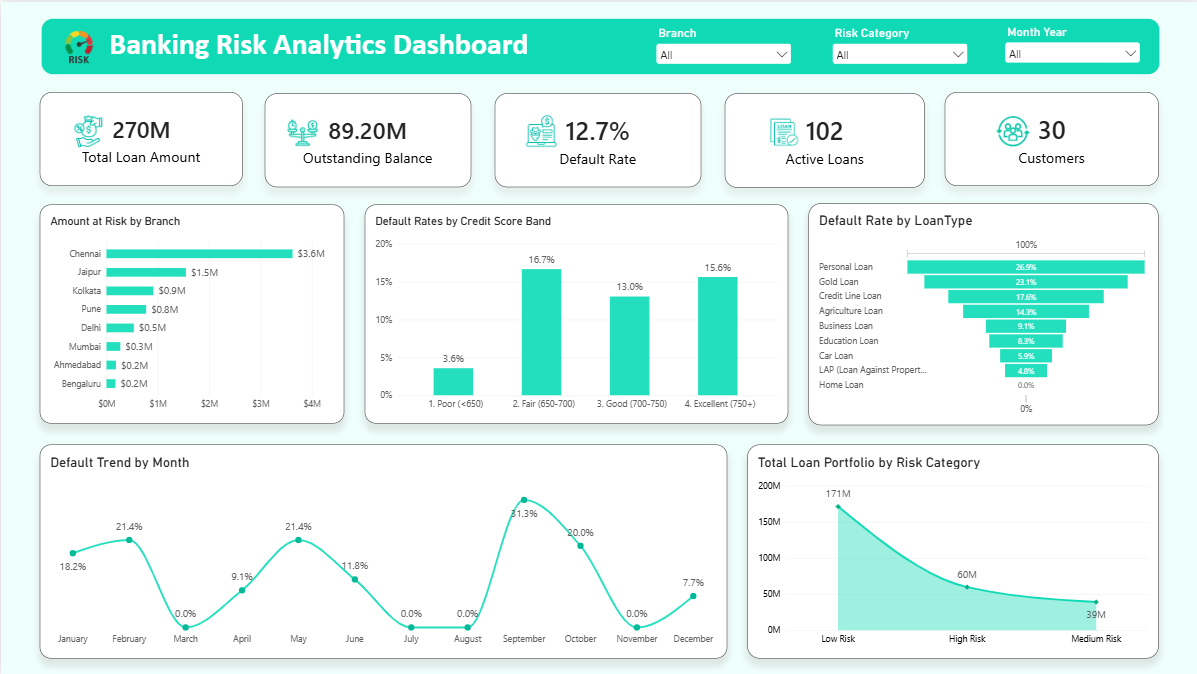

This screenshot's page, from the dashboard's own definition file:
{"tool":"powerbi","page":{"name":"Risk Analysis","canvas":[1920,1080],"ordinal":1},"visuals":[{"type":"areaChart","title":"Total Loan Portfolio by Risk Category","fields":{"Category":["PROD.RiskCategory"],"Y":["Measure.Total Loan Portfolio"]},"box":[1193,708,658,342],"z":0},{"type":"funnel","fields":{"Category":["PROD.LoanType"],"Y":["Measure.Default Rate"]},"box":[1292,322,560,355],"z":2000},{"type":"textbox","title":"Banking ","box":[64,25.5,1790,90],"z":4000},{"type":"slicer","fields":{"Values":["PROD.RiskCategory"]},"box":[1326.5,38,225,67.5],"z":5000},{"type":"slicer","fields":{"Values":["Date.Month Year"]},"box":[1601.5,35.5,225,70],"z":6000},{"type":"slicer","fields":{"Values":["Loan_Fact.Branch"]},"box":[1044,38,225,67.5],"z":7000},{"type":"image","box":[71,27,106,88],"z":8000},{"type":"card","fields":{"Values":["Measure.Total Loan Portfolio"]},"box":[62,144.5,325,150],"z":9000},{"type":"card","fields":{"Values":["Measure.Outstanding Balance"]},"box":[422.6,145.3,330,150],"z":10000},{"type":"card","fields":{"Values":["Measure.Default Rate"]},"box":[789.2,145.3,330,150],"z":11000},{"type":"card","fields":{"Values":["Measure.Active Loans"]},"box":[1157,145.3,320,151.1],"z":12000},{"type":"card","fields":{"Values":["Measure.Customers"]},"box":[1509.5,144.8,342.5,150],"z":13000},{"type":"image","box":[104.8,175.3,71.1,57.8],"z":14000},{"type":"image","box":[454.5,177,57.5,60],"z":15000},{"type":"image","box":[834.5,177,60,57.5],"z":16000},{"type":"image","box":[1589,178,58,58],"z":17000},{"type":"image","box":[1224.5,177,57.5,60],"z":18000},{"type":"clusteredColumnChart","title":"Default Rates by Credit Score Band","fields":{"Category":["CUST.CreditScoreBand"],"Y":["Loan_Fact.Default Rates"]},"box":[582,324.5,677.5,350],"z":19000},{"type":"lineChart","title":"Default Trend by Month","fields":{"Category":["Loan_Fact.ApplicationDate.Variation.Date Hierarchy.Year","Loan_Fact.ApplicationDate.Variation.Date Hierarchy.Quarter","Loan_Fact.ApplicationDate.Variation.Date Hierarchy.Month","Loan_Fact.ApplicationDate.Variation.Date Hierarchy.Day"],"Y":["Loan_Fact.Default Rates"]},"box":[62,707,1100,342.5],"z":20000},{"type":"clusteredBarChart","fields":{"Category":["Loan_Fact.Branch"],"Y":["Measure.Amount at Risk"]},"box":[62,324.5,487.5,350],"z":20001}]}

Visuals, with their boxes in screenshot pixels (x1, y1, x2, y2), scaled from the page's 1920x1080 canvas onto the 1197x674 screenshot:
"Total Loan Portfolio by Risk Category" areaChart: (left=744, top=442, right=1154, bottom=655)
funnel - PROD.LoanType x Measure.Default Rate: (left=805, top=201, right=1155, bottom=422)
"Banking " textbox: (left=40, top=16, right=1156, bottom=72)
slicer - PROD.RiskCategory: (left=827, top=24, right=967, bottom=66)
slicer - Date.Month Year: (left=998, top=22, right=1139, bottom=66)
slicer - Loan_Fact.Branch: (left=651, top=24, right=791, bottom=66)
image: (left=44, top=17, right=110, bottom=72)
card - Measure.Total Loan Portfolio: (left=39, top=90, right=241, bottom=184)
card - Measure.Outstanding Balance: (left=263, top=91, right=469, bottom=184)
card - Measure.Default Rate: (left=492, top=91, right=698, bottom=184)
card - Measure.Active Loans: (left=721, top=91, right=921, bottom=185)
card - Measure.Customers: (left=941, top=90, right=1155, bottom=184)
image: (left=65, top=109, right=110, bottom=145)
image: (left=283, top=110, right=319, bottom=148)
image: (left=520, top=110, right=558, bottom=146)
image: (left=991, top=111, right=1027, bottom=147)
image: (left=763, top=110, right=799, bottom=148)
"Default Rates by Credit Score Band" clusteredColumnChart: (left=363, top=203, right=785, bottom=421)
"Default Trend by Month" lineChart: (left=39, top=441, right=724, bottom=655)
clusteredBarChart - Loan_Fact.Branch x Measure.Amount at Risk: (left=39, top=203, right=343, bottom=421)
